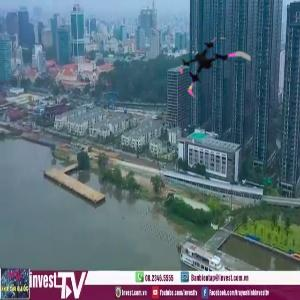drone: (173, 32, 245, 104)
